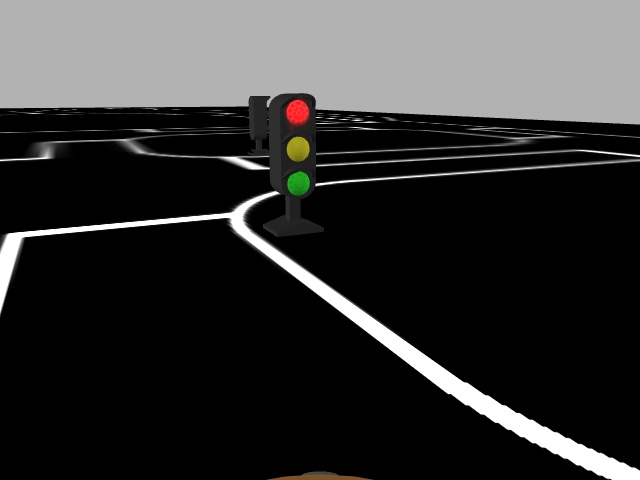red_light: (275, 93, 323, 201)
